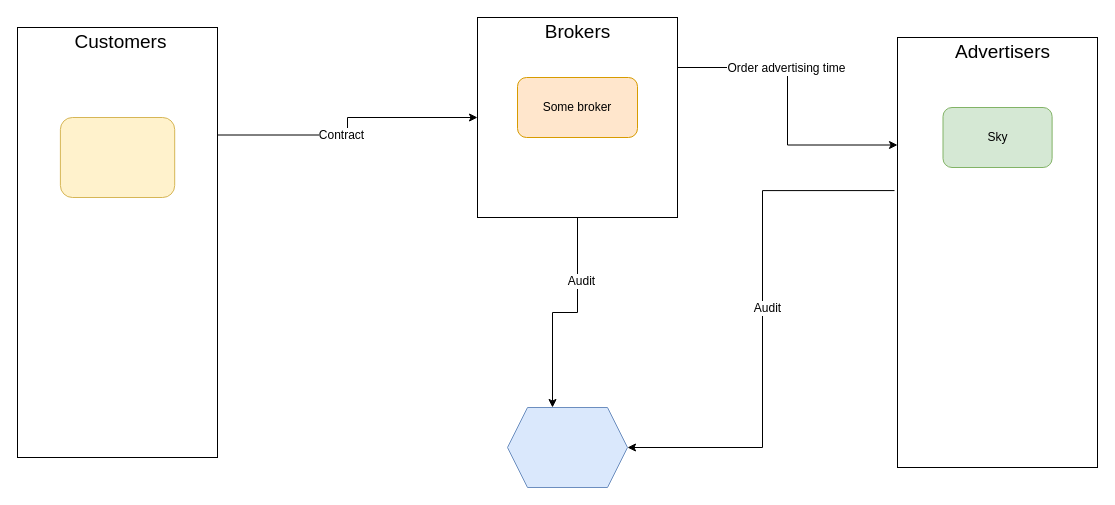
The diagram is 1115 pixels wide and 505 high, and some of its shapes have lost their labels. The shapes that lost their labels are listed below. From the top down, each one's centre as x and y in pixels, then its label:
At point 117,157: "Some customer".
At point 567,447: "Concise".
